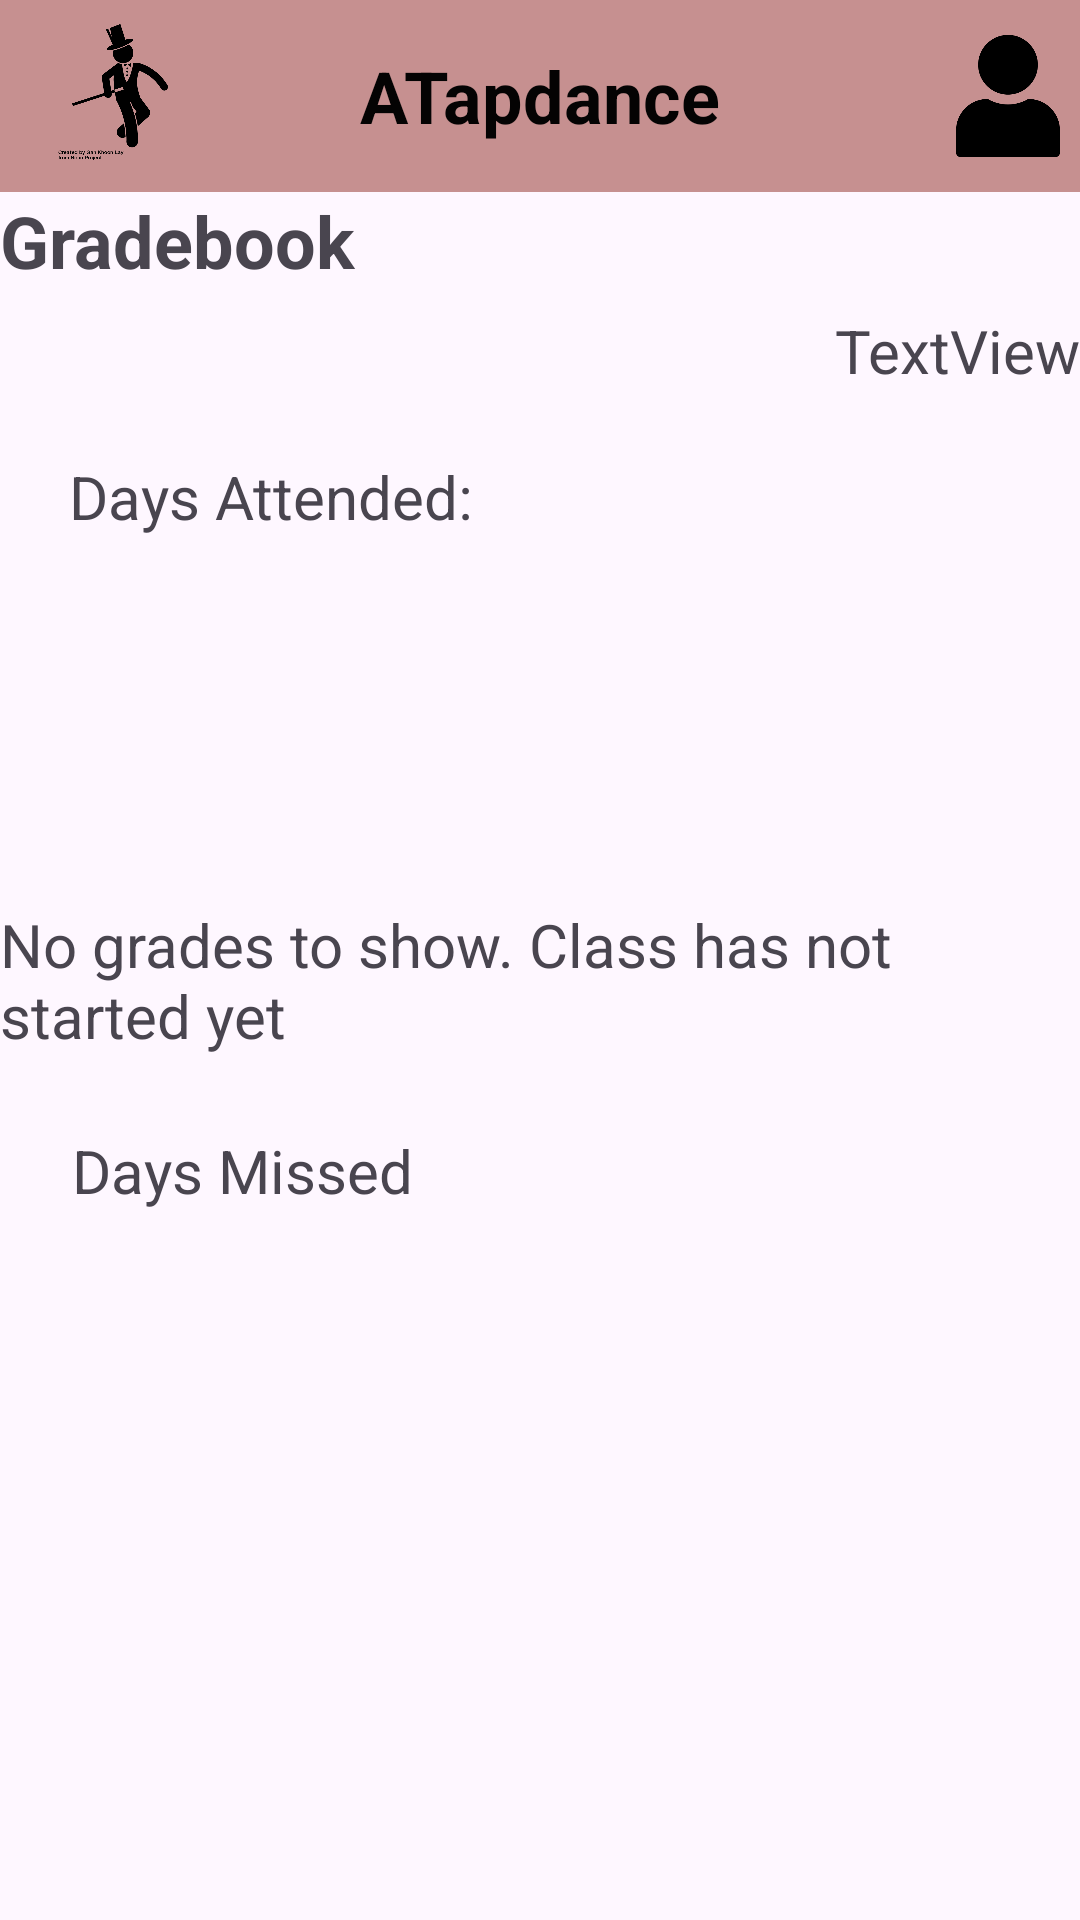

Where to tap for icons on this 1080w x 1920h app screen, as (x=x, y=y):
tap dance: (x=113, y=92)
